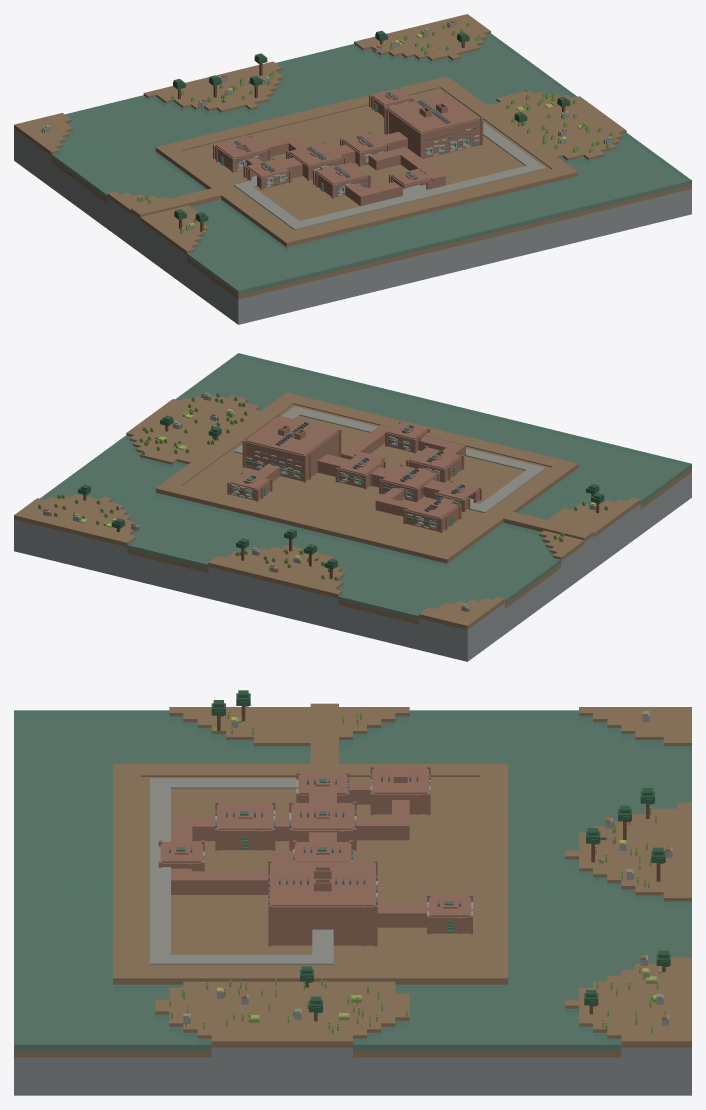
The model's file is marsh.glb.
3 renders of one model, top to bottom at view 1: azimuth 30°, elevation 25°; view 2: azimuth 150°, elevation 25°; view 3: azimuth 270°, elevation 25°, orthographic. The views are drawn at different scales.
Visible parts, largest first — view 1: marsh/watercourses, marsh/surface, marsh/terrain, marsh/marsh_dungeon/room_walls, marsh/marsh_dungeon/floor_mesh, marsh/vegetation, marsh/marsh_dungeon/exterior_details, marsh/marsh_dungeon/roof_arena, marsh/marsh_dungeon/corridor_walls, marsh/outcrops, marsh/marsh_dungeon/roof_workshop, marsh/marsh_dungeon/roof_cistern (+3 smaller); view 2: marsh/watercourses, marsh/surface, marsh/terrain, marsh/marsh_dungeon/room_walls, marsh/marsh_dungeon/exterior_details, marsh/vegetation, marsh/marsh_dungeon/floor_mesh, marsh/marsh_dungeon/roof_arena, marsh/marsh_dungeon/corridor_walls, marsh/outcrops, marsh/marsh_dungeon/roof_workshop, marsh/marsh_dungeon/roof_cistern (+2 smaller); view 3: marsh/watercourses, marsh/surface, marsh/terrain, marsh/marsh_dungeon/room_walls, marsh/marsh_dungeon/floor_mesh, marsh/vegetation, marsh/marsh_dungeon/roof_arena, marsh/marsh_dungeon/corridor_walls, marsh/marsh_dungeon/exterior_details, marsh/marsh_dungeon/roof_workshop, marsh/marsh_dungeon/roof_cistern, marsh/marsh_dungeon/roof_production (+6 smaller).
Part boxes in pixels (bbox=[...]): marsh/watercourses: bbox=[51, 33, 691, 295]; marsh/surface: bbox=[14, 14, 691, 296]; marsh/terrain: bbox=[14, 32, 691, 324]; marsh/marsh_dungeon/room_walls: bbox=[215, 96, 480, 197]; marsh/marsh_dungeon/floor_mesh: bbox=[234, 123, 545, 229]; marsh/vegetation: bbox=[137, 22, 614, 233]; marsh/marsh_dungeon/exterior_details: bbox=[213, 87, 483, 198]; marsh/marsh_dungeon/roof_arena: bbox=[387, 93, 479, 132]; marsh/marsh_dungeon/corridor_walls: bbox=[246, 139, 445, 206]; marsh/outcrops: bbox=[41, 20, 612, 230]; marsh/marsh_dungeon/roof_workshop: bbox=[289, 143, 343, 166]; marsh/marsh_dungeon/roof_cistern: bbox=[316, 162, 367, 184]; marsh/watercourses: bbox=[40, 353, 691, 620]; marsh/surface: bbox=[14, 392, 691, 626]; marsh/terrain: bbox=[14, 400, 691, 661]; marsh/marsh_dungeon/room_walls: bbox=[229, 430, 479, 531]; marsh/marsh_dungeon/exterior_details: bbox=[227, 414, 481, 532]; marsh/vegetation: bbox=[38, 392, 607, 580]; marsh/marsh_dungeon/floor_mesh: bbox=[234, 406, 545, 523]; marsh/marsh_dungeon/roof_arena: bbox=[245, 415, 338, 455]; marsh/marsh_dungeon/corridor_walls: bbox=[266, 435, 465, 516]; marsh/outcrops: bbox=[43, 392, 596, 611]; marsh/marsh_dungeon/roof_workshop: bbox=[382, 465, 436, 488]; marsh/marsh_dungeon/roof_cistern: bbox=[409, 447, 461, 468]; marsh/watercourses: bbox=[14, 710, 691, 1050]; marsh/surface: bbox=[14, 703, 691, 1052]; marsh/terrain: bbox=[14, 714, 691, 1095]; marsh/marsh_dungeon/room_walls: bbox=[160, 769, 471, 945]; marsh/marsh_dungeon/floor_mesh: bbox=[150, 778, 333, 964]; marsh/vegetation: bbox=[169, 690, 670, 1033]; marsh/marsh_dungeon/roof_arena: bbox=[271, 861, 374, 906]; marsh/marsh_dungeon/corridor_walls: bbox=[171, 791, 426, 927]; marsh/marsh_dungeon/exterior_details: bbox=[158, 766, 472, 946]; marsh/marsh_dungeon/roof_workshop: bbox=[293, 803, 352, 829]; marsh/marsh_dungeon/roof_cistern: bbox=[218, 803, 271, 829]; marsh/marsh_dungeon/roof_production: bbox=[374, 767, 426, 794].
Bounding box in the file's own units: 224 × 33 × 192.
